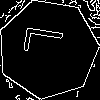L: (23, 24, 73, 59)
